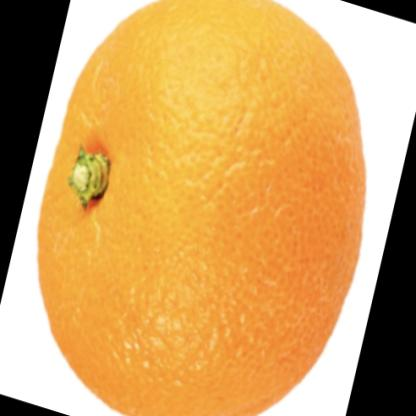fresh: (38, 1, 368, 408)
